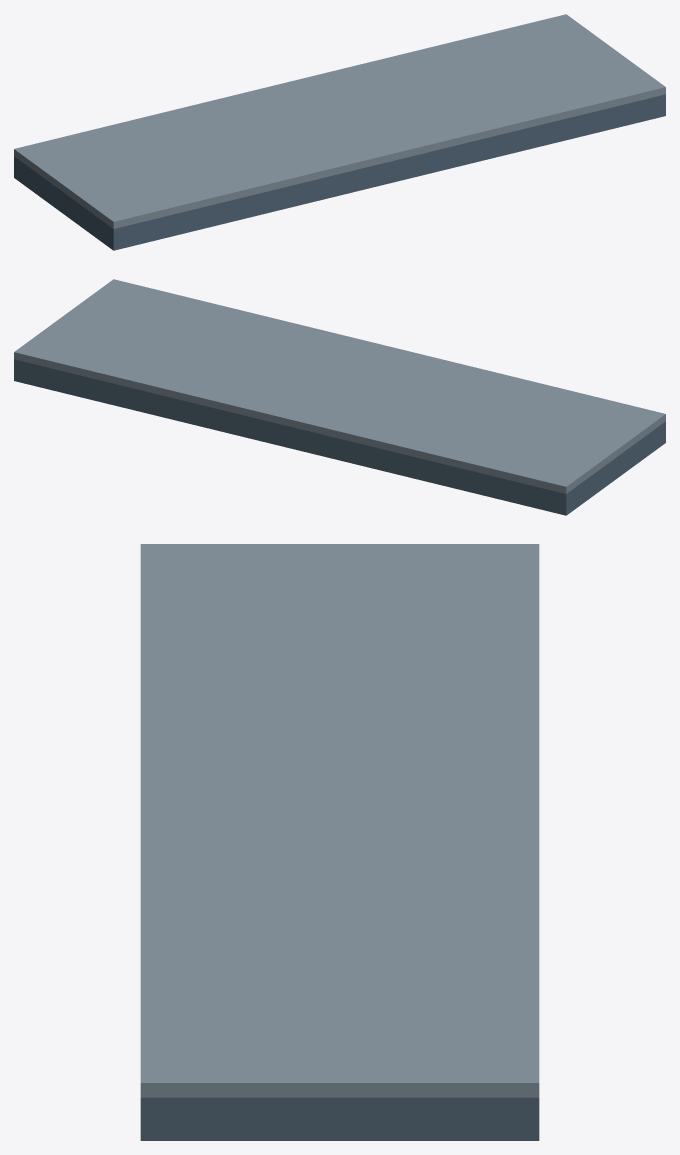
File: TS-632.00.000-00-plita-dielektricheskaya-50x160.glb
3 renders of one model, top to bottom at view 1: azimuth 30°, elevation 25°; view 2: azimuth 150°, elevation 25°; view 3: azimuth 270°, elevation 25°, orthographic. The views are drawn at different scales.
Visible parts, largest first — view 1: prokladka, plita; view 2: prokladka, plita; view 3: prokladka, plita.
Boxes of the visible parts, bbox=[...] form: prokladka: bbox=[14, 14, 665, 228]; plita: bbox=[14, 94, 665, 250]; prokladka: bbox=[14, 279, 665, 493]; plita: bbox=[14, 359, 665, 515]; prokladka: bbox=[140, 544, 539, 1097]; plita: bbox=[140, 1097, 539, 1140].
Bounding box in the file's own units: 160 × 8 × 50.
